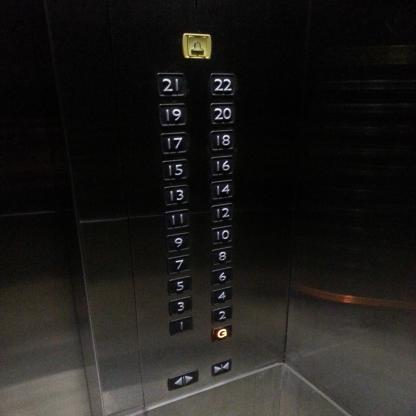1: (169, 316, 194, 335)
10: (210, 224, 235, 245)
11: (164, 208, 190, 229)
12: (210, 202, 235, 223)
13: (163, 184, 190, 205)
14: (210, 179, 236, 201)
15: (161, 158, 190, 182)
16: (209, 154, 236, 176)
17: (160, 132, 189, 155)
18: (210, 128, 237, 152)
19: (158, 102, 188, 127)
2: (210, 305, 235, 323)
20: (209, 101, 238, 125)
21: (155, 72, 188, 98)
22: (208, 72, 237, 98)
3: (168, 296, 193, 315)
4: (210, 286, 234, 305)
5: (167, 275, 193, 295)
6: (210, 266, 233, 285)
7: (166, 254, 192, 275)
8: (210, 246, 234, 265)
9: (166, 232, 192, 252)
G: (211, 323, 233, 341)
alarm: (181, 31, 213, 61)
close: (212, 359, 233, 376)
open: (167, 370, 198, 392)
